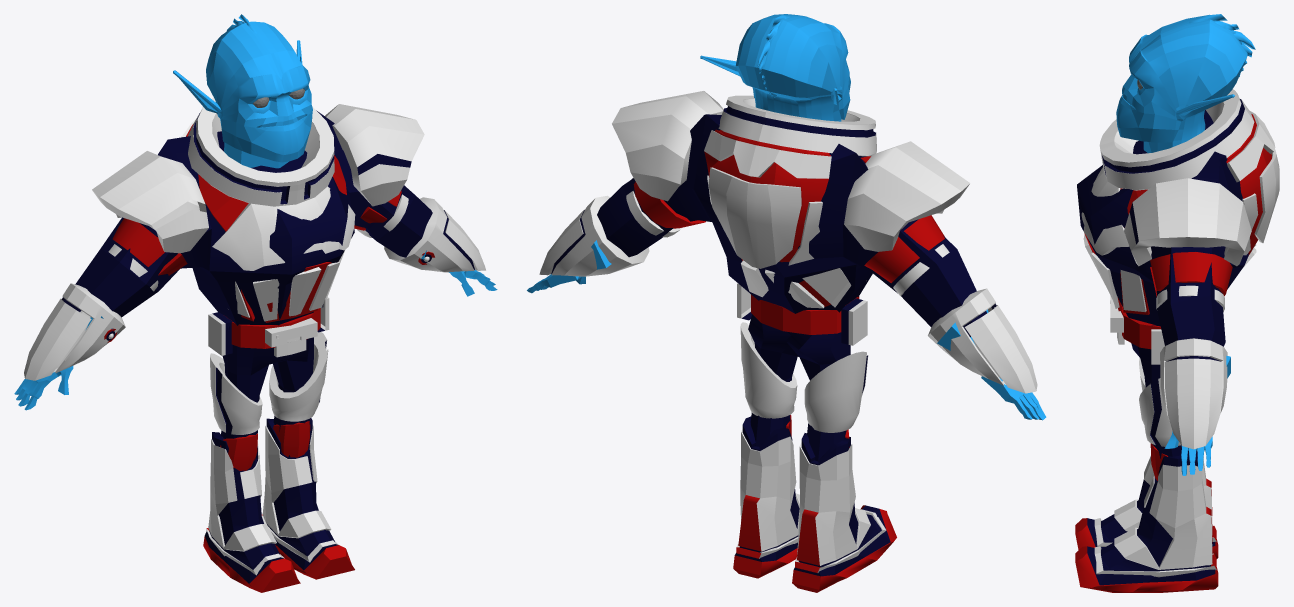
File: Aliene_OBJ.obj
3 renders of one model, left to right at view 1: azimuth 30°, elevation 25°; view 2: azimuth 150°, elevation 25°; view 3: azimuth 270°, elevation 25°, orthographic. The views are drawn at different scales.
Parts seen in each view (by area): view 1: outfit1 pCylinder7, outfit1 pPipe3 pPipe4, Head1, outfit1 polySurface36, outfit1 pPipe9 pPipe10, outfit1 polySurface31 polySurface32, outfit1 pPipe12 pPipe13, outfit1 polySurface34, outfit1 polySurface40, outfit1 polySurface38, outfit1 pPipe5 pPipe6, outfit1 pPipe15 pPipe16 (+11 smaller); view 2: outfit1 pCylinder7, outfit1 pPipe3 pPipe4, outfit1 polySurface31 polySurface32, Head1, outfit1 pPipe9 pPipe10, outfit1 pPipe12 pPipe13, outfit1 polySurface18, outfit1 polySurface36, outfit1 polySurface34, outfit1 pPipe5 pPipe6, outfit1 polySurface37, outfit1 polySurface19 (+10 smaller); view 3: Head1, outfit1 pCylinder7, outfit1 polySurface31 polySurface32, outfit1 pPipe3 pPipe4, outfit1 polySurface36, outfit1 pPipe9 pPipe10, outfit1 polySurface38, outfit1 pPipe5 pPipe6, outfit1 polySurface39, outfit1 pPipe12 pPipe13, outfit1 polySurface19, outfit1 polySurface18 (+13 smaller).
Boxes of the visible parts, box(x1,y1,x2,y2) form: outfit1 pCylinder7: box(63, 110, 432, 325); outfit1 pPipe3 pPipe4: box(92, 104, 424, 253); Head1: box(173, 21, 312, 168); outfit1 polySurface36: box(188, 97, 355, 270); outfit1 pPipe9 pPipe10: box(24, 197, 485, 380); outfit1 polySurface31 polySurface32: box(206, 425, 338, 575); outfit1 pPipe12 pPipe13: box(210, 332, 328, 434); outfit1 polySurface34: box(221, 337, 313, 466); outfit1 polySurface40: box(204, 432, 283, 583); outfit1 polySurface38: box(266, 418, 338, 570); outfit1 pPipe5 pPipe6: box(112, 190, 401, 275); outfit1 pPipe15 pPipe16: box(220, 419, 310, 470); outfit1 pCylinder7: box(597, 114, 986, 337); outfit1 pPipe3 pPipe4: box(612, 91, 970, 251); outfit1 polySurface31 polySurface32: box(736, 429, 886, 572); Head1: box(700, 14, 850, 121); outfit1 pPipe9 pPipe10: box(539, 195, 1037, 393); outfit1 pPipe12 pPipe13: box(740, 322, 868, 432); outfit1 polySurface18: box(708, 167, 801, 268); outfit1 polySurface36: box(718, 95, 876, 156); outfit1 polySurface34: box(748, 314, 850, 461); outfit1 pPipe5 pPipe6: box(633, 181, 944, 283); outfit1 polySurface37: box(704, 129, 830, 306); outfit1 polySurface19: box(704, 130, 831, 178); Head1: box(1116, 14, 1247, 153); outfit1 pCylinder7: box(1077, 110, 1248, 346); outfit1 polySurface31 polySurface32: box(1094, 450, 1216, 577); outfit1 pPipe3 pPipe4: box(1124, 178, 1251, 266); outfit1 polySurface36: box(1081, 89, 1254, 255); outfit1 pPipe9 pPipe10: box(1160, 338, 1227, 449); outfit1 polySurface38: box(1087, 450, 1215, 585); outfit1 pPipe5 pPipe6: box(1150, 252, 1232, 296); outfit1 polySurface39: box(1075, 546, 1218, 592); outfit1 pPipe12 pPipe13: box(1139, 358, 1180, 446); outfit1 polySurface19: box(1227, 110, 1275, 182); outfit1 polySurface18: box(1254, 149, 1279, 242).
Size of the model in its own units: 15.02 by 15.88 by 5.29.
